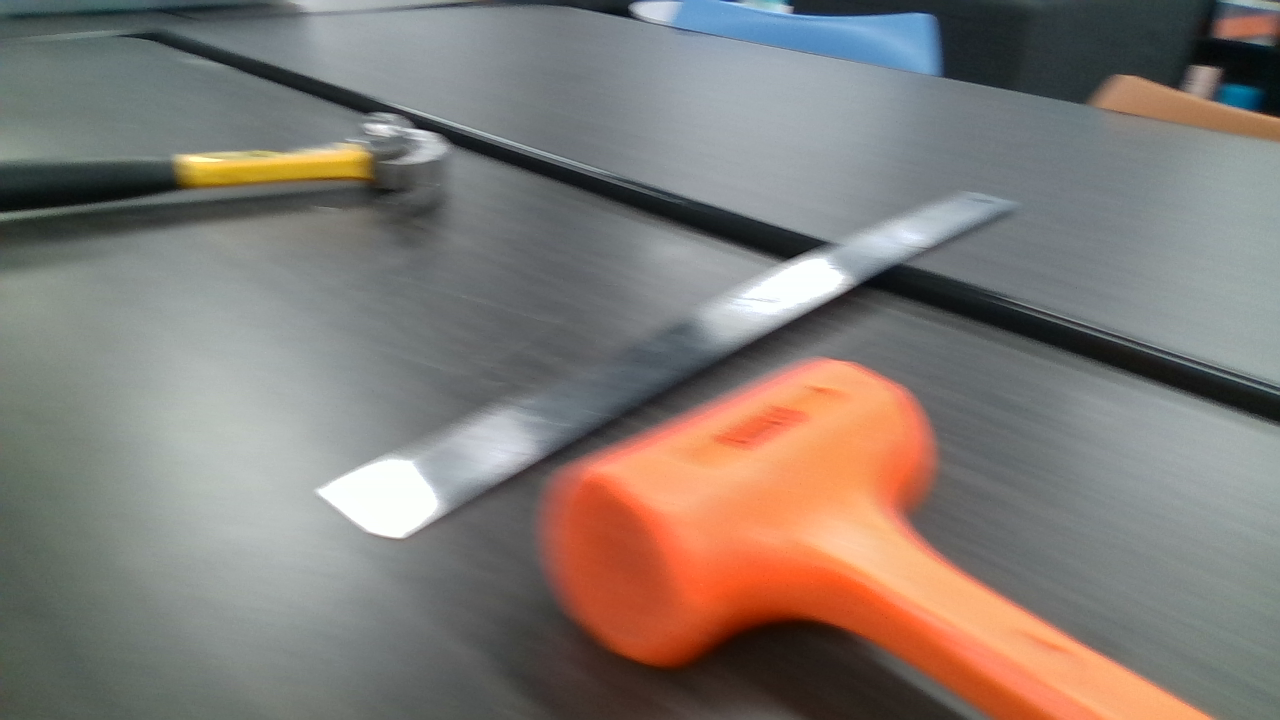Orange Hammer: (541, 356, 1244, 718)
